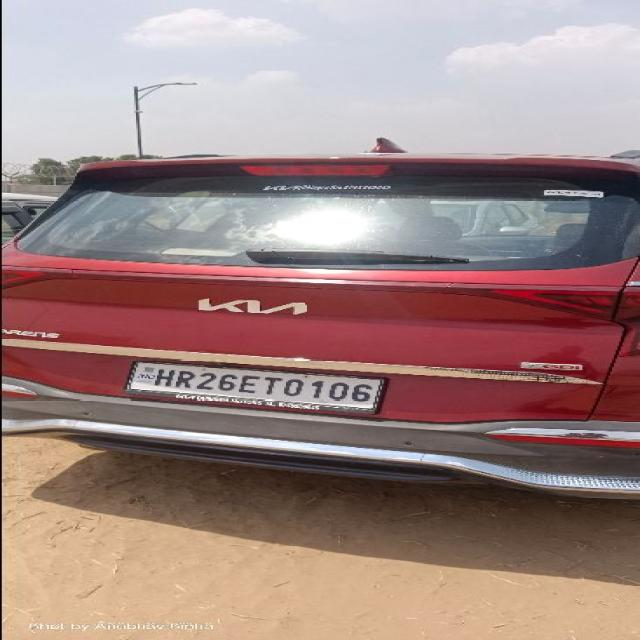license_plate: (120, 358, 389, 416)
